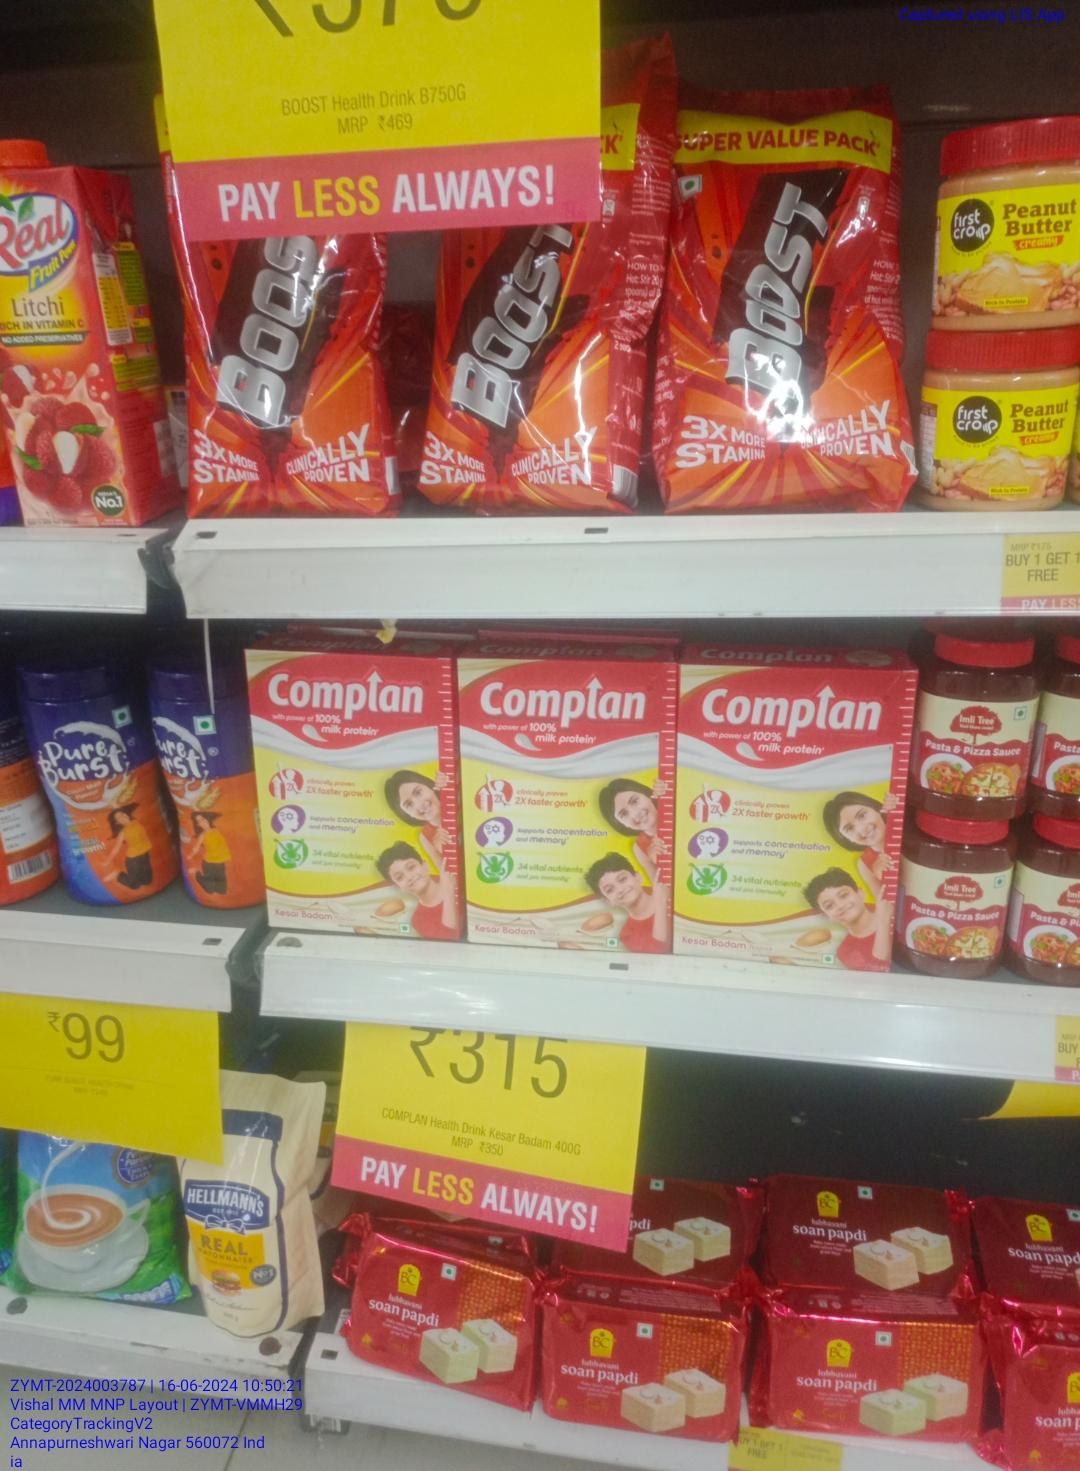COMPLAN_KESAR_BADAM_200_GMS_PACK: (679, 664, 895, 978), (462, 659, 668, 951), (251, 648, 453, 940)
